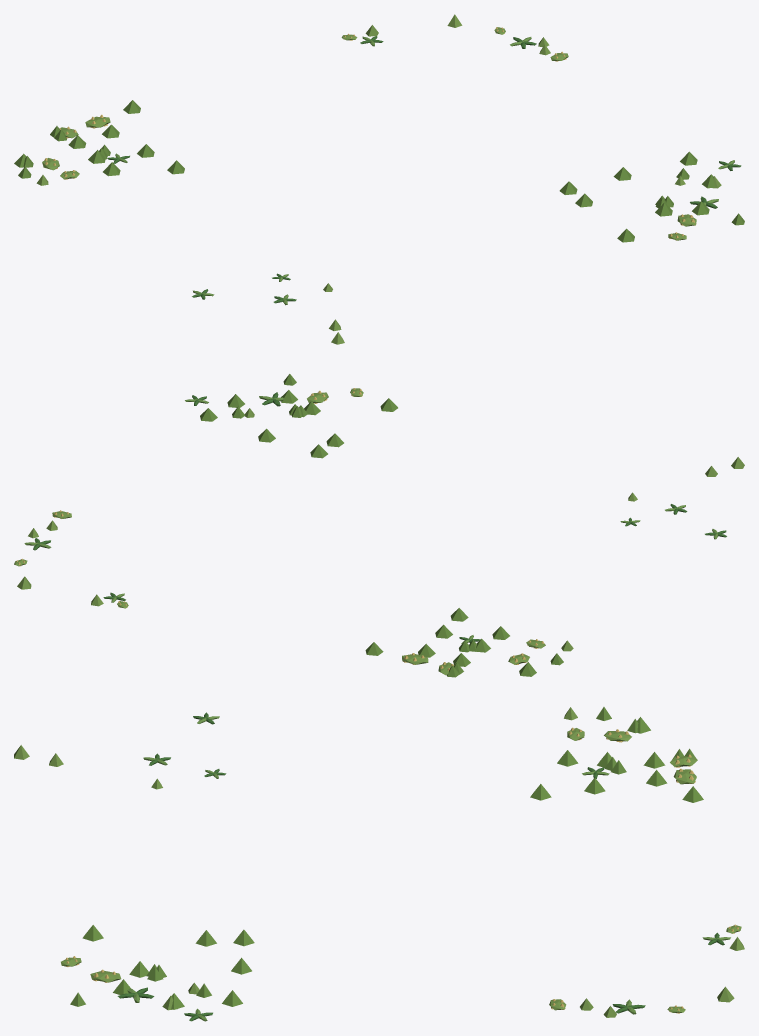
Rendered from path_crossroads_copse_nonsolid_props.fbx.
3 views of the same model, one above another, from view 1: azimuth 30°, elevation 25°; view 2: azimuth 150°, elevation 25°; view 3: azimuth 270°, elevation 25° (orthographic). The views are drawn at different scales.
Parts seen in each view (by area): view 1: chunk_path_crossroads_copse__PropsNonSolid; view 2: chunk_path_crossroads_copse__PropsNonSolid; view 3: chunk_path_crossroads_copse__PropsNonSolid.
Part boxes in pixels (x1,y1,x2,y2): chunk_path_crossroads_copse__PropsNonSolid: (14, 14, 744, 344); chunk_path_crossroads_copse__PropsNonSolid: (14, 374, 744, 677); chunk_path_crossroads_copse__PropsNonSolid: (14, 707, 744, 1021).
Size of the model in its own units: 182 by 6.86 by 178.
